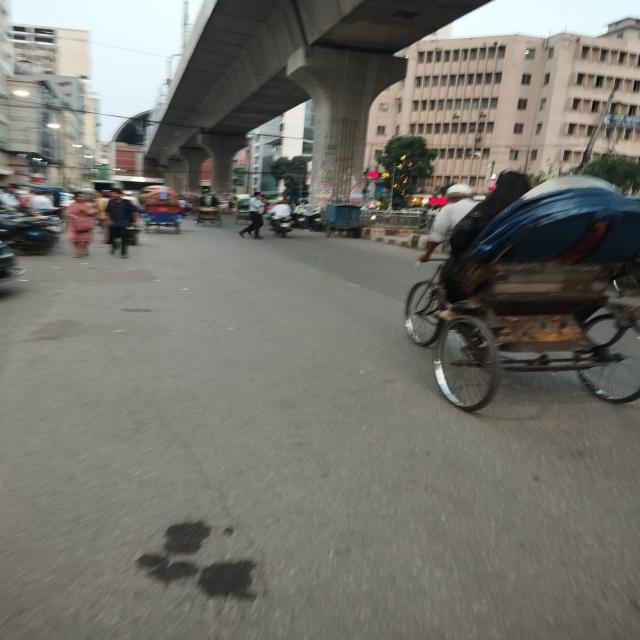person: (105, 188, 137, 258), (65, 192, 97, 258), (239, 192, 265, 239)
